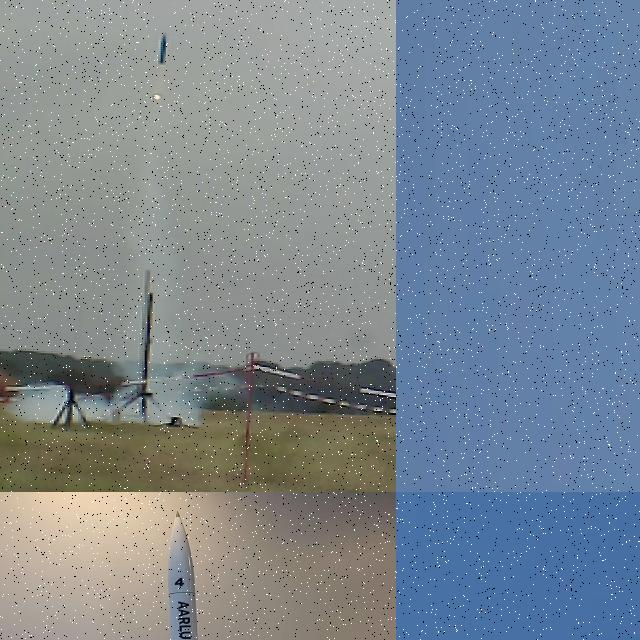Rocket: (167, 510, 198, 640), (156, 31, 168, 65)
